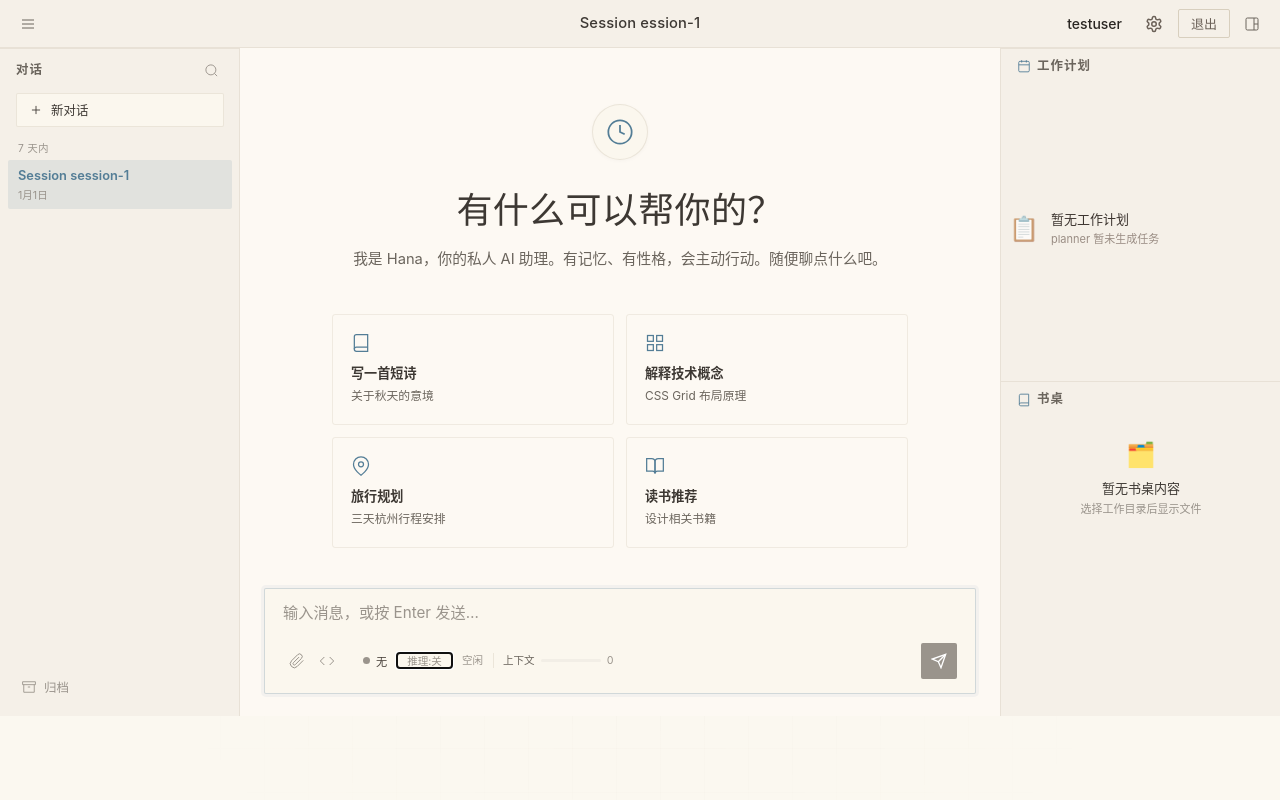
it: ChatPage › shows an error when loading models fails
Click the button with test id "chat-model-selector-trigger" at (375, 661), box [353,653,397,669]
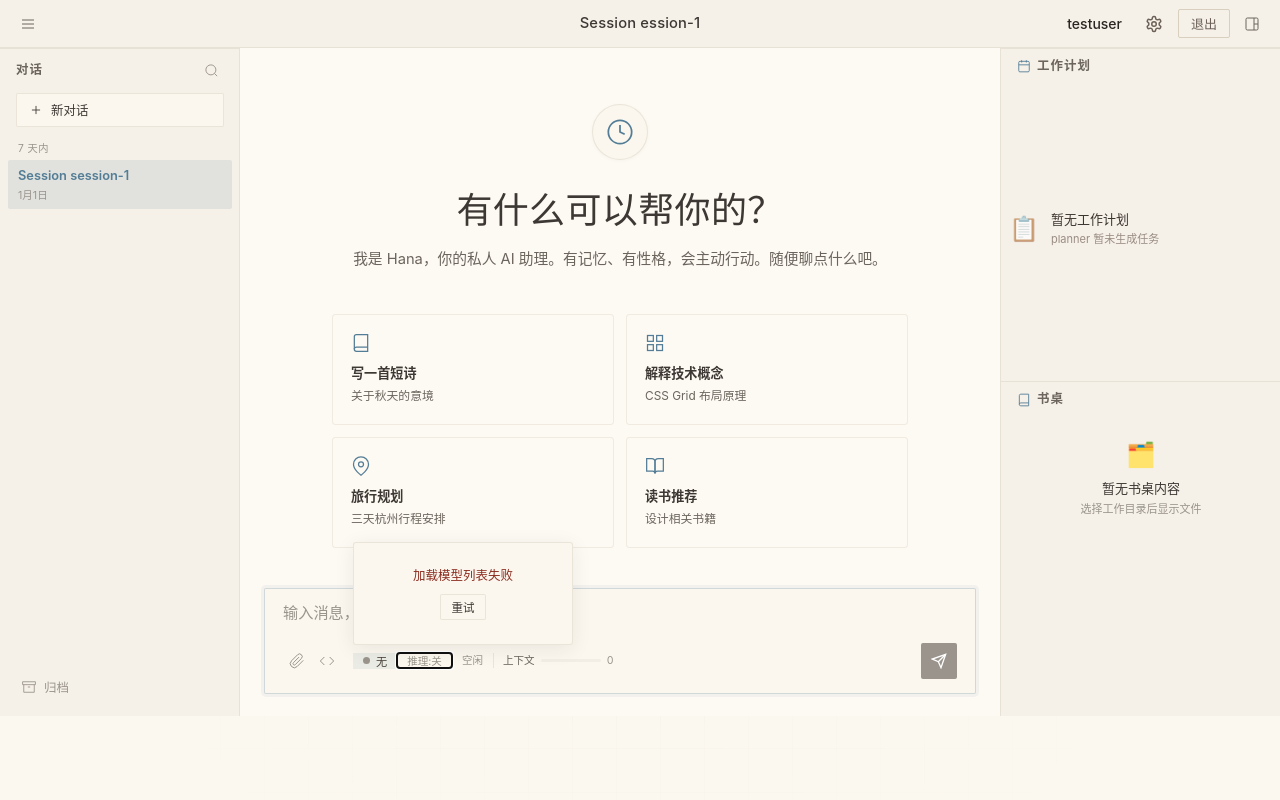
Now the element with test id "chat-model-error" is shown, box [413,568,513,620]
